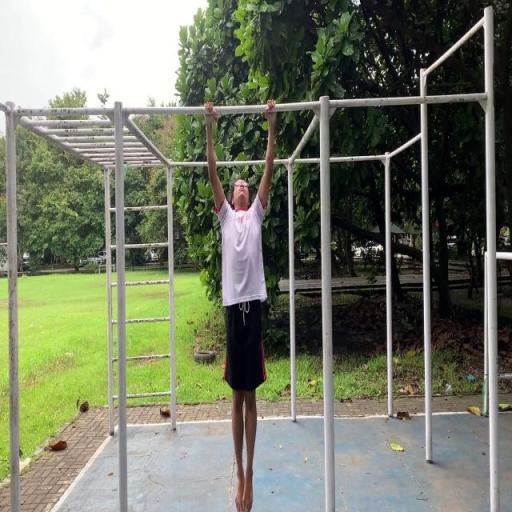Normal_BrenchPress: (203, 99, 278, 511)
